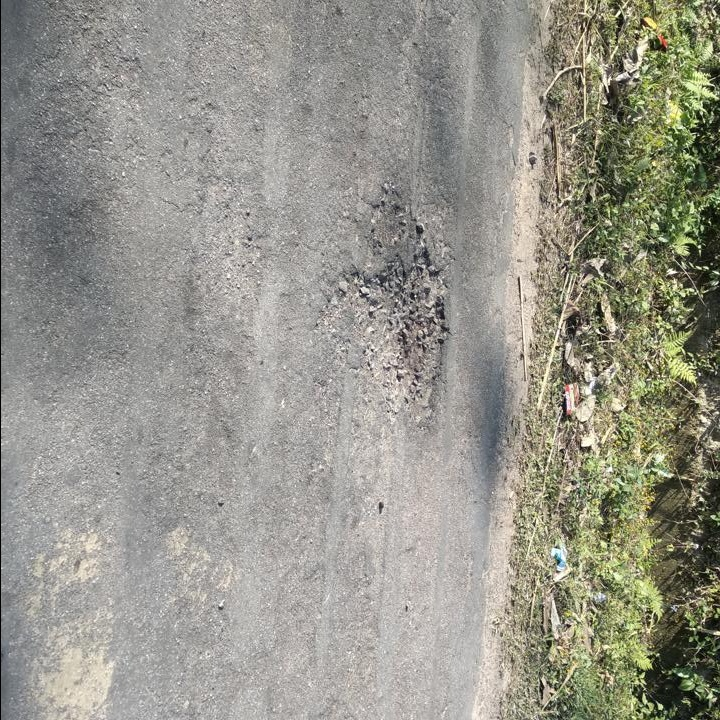pothole: (332, 234, 449, 434)
